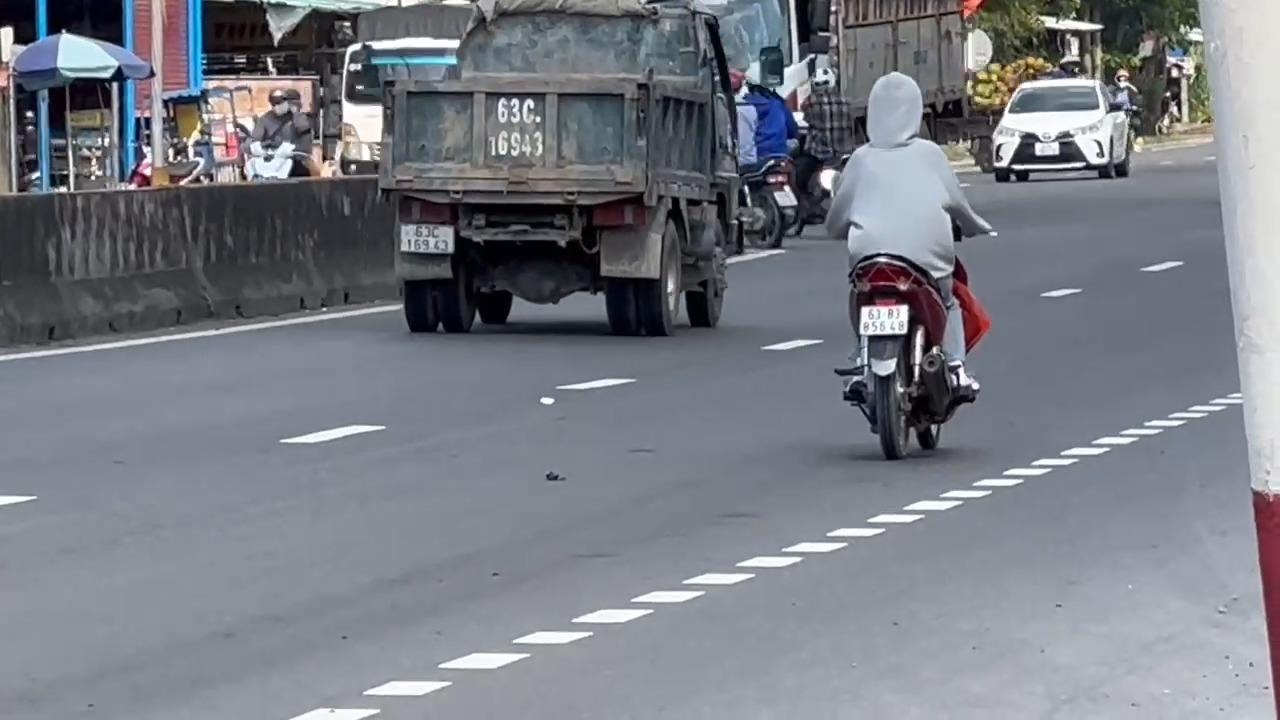bien_so: (399, 222, 455, 254), (857, 303, 909, 336)
